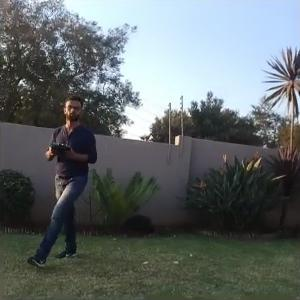follow: (30, 89, 100, 266)
